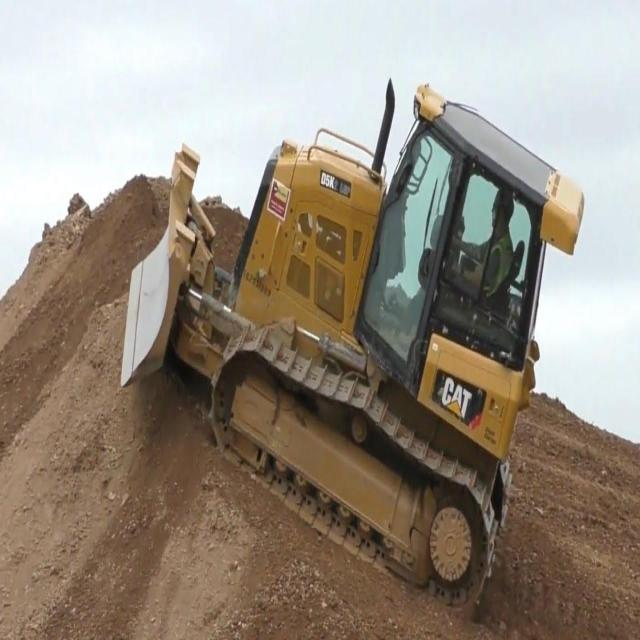Bulldozer: (103, 65, 565, 611)
